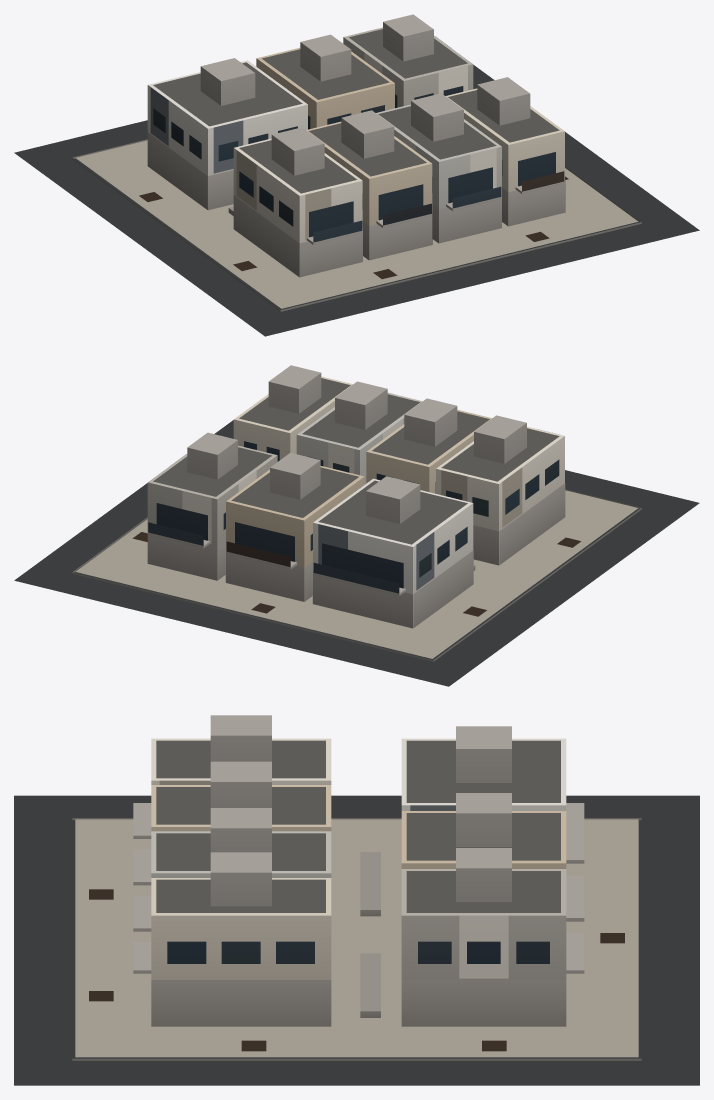
The model's file is modulo_E_lod1.glb.
3 views of the same model, one above another, from view 1: azimuth 30°, elevation 25°; view 2: azimuth 150°, elevation 25°; view 3: azimuth 270°, elevation 25° (orthographic). The views are drawn at different scales.
Visible parts, largest first — view 1: modulo_E_lod1; view 2: modulo_E_lod1; view 3: modulo_E_lod1.
Part boxes in pixels (<box>): modulo_E_lod1: <box>14,14,699,336</box>; modulo_E_lod1: <box>14,365,699,686</box>; modulo_E_lod1: <box>14,715,699,1085</box>.
Size of the model in its own units: 40 by 9.51 by 40.
